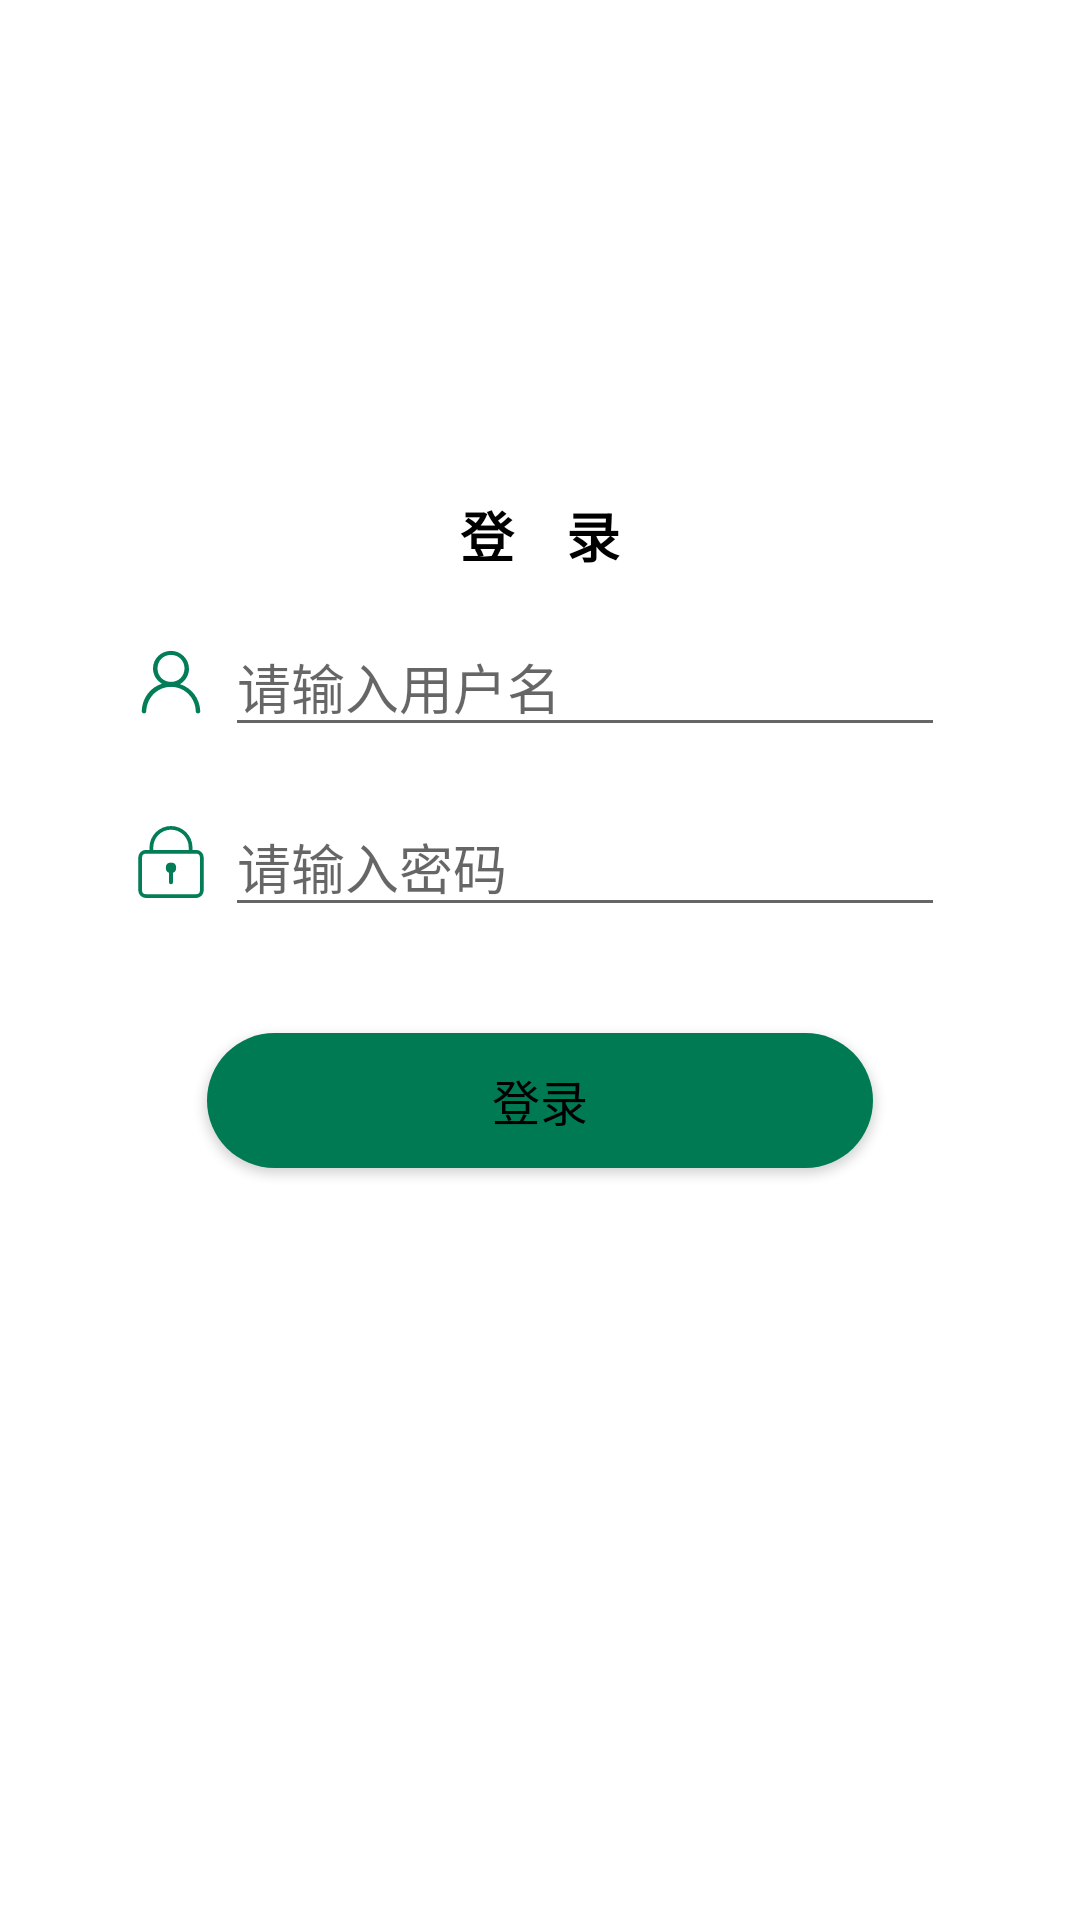

Locate icon controls on the screen. Image size 1080px×1920px, boxes as [x1, y1, x2, y2].
password: [138, 826, 204, 898]
user: [141, 651, 201, 714]
